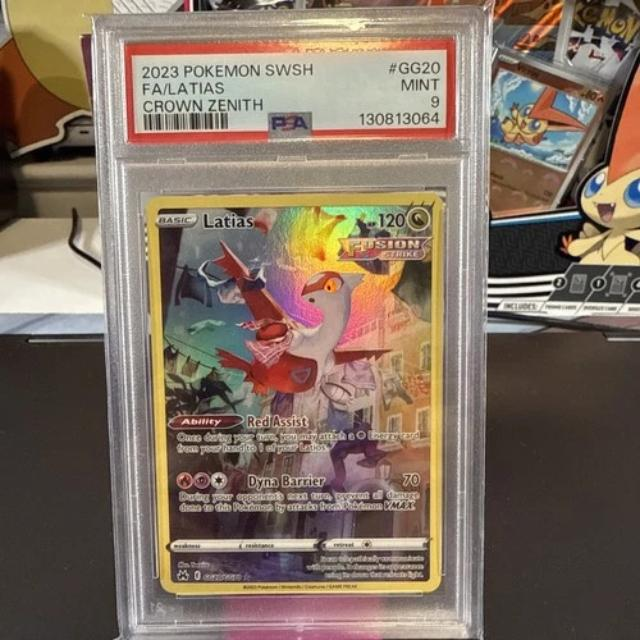Card: (142, 192, 449, 598)
Name: (200, 207, 259, 230)
